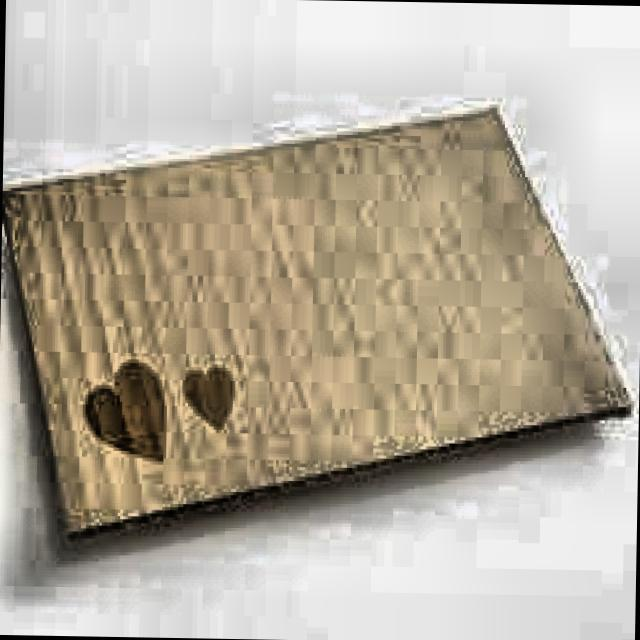cardboard: (0, 88, 640, 550)
